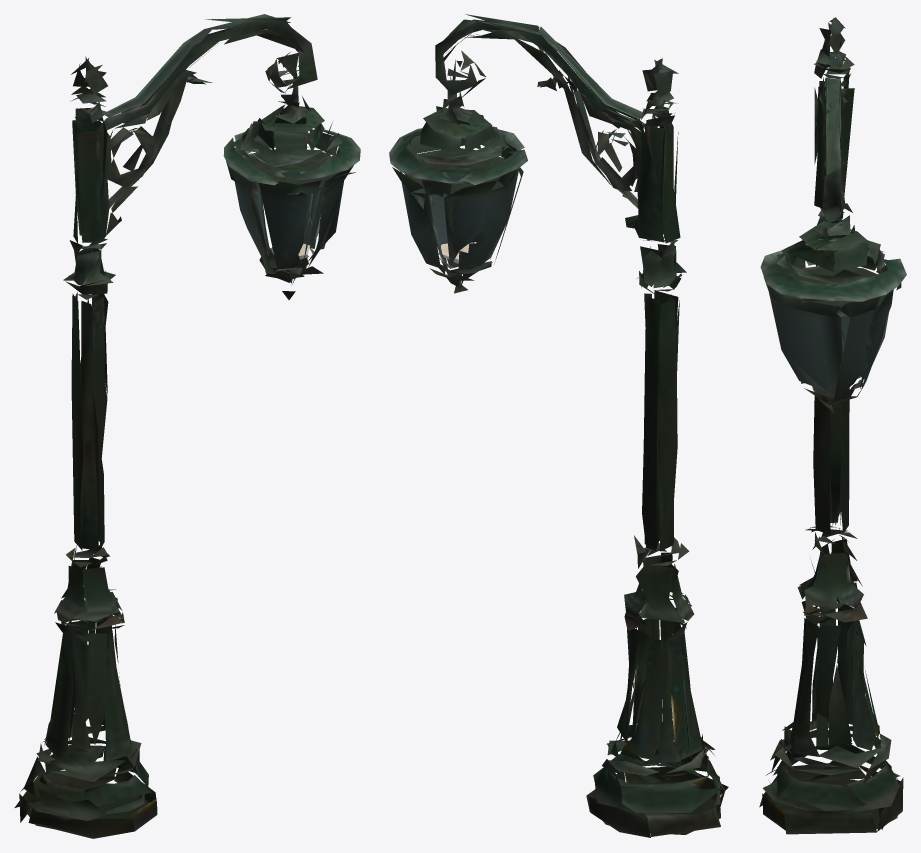
File: kueste_laterne.glb
3 renders of one model, left to right at view 1: azimuth 30°, elevation 25°; view 2: azimuth 150°, elevation 25°; view 3: azimuth 270°, elevation 25°, orthographic. The views are drawn at different scales.
Visible parts, largest first — view 1: Prop; view 2: Prop; view 3: Prop.
Part boxes in pixels (bbox=[...]): Prop: bbox=[14, 14, 360, 838]; Prop: bbox=[389, 14, 728, 837]; Prop: bbox=[759, 17, 906, 834].
Bounding box in the file's own units: 0.4529 × 1.01 × 0.1708.
1 material, 1 textured.
